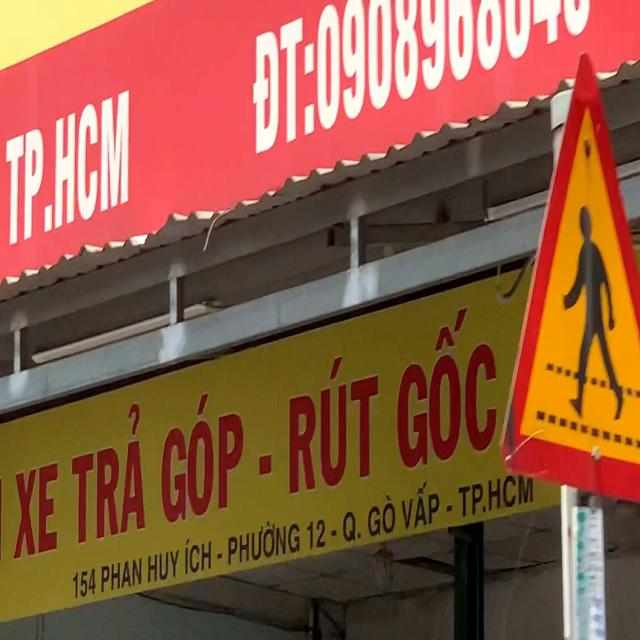W.224: (501, 51, 640, 508)
